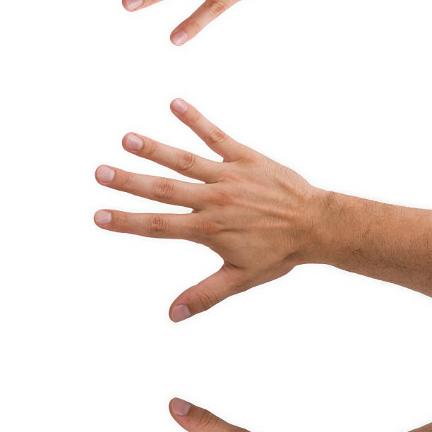Nail: (172, 305, 192, 323), (172, 397, 192, 415), (97, 166, 115, 182), (126, 134, 143, 150), (172, 98, 188, 113), (172, 31, 188, 46), (95, 210, 112, 224), (126, 0, 143, 10)
